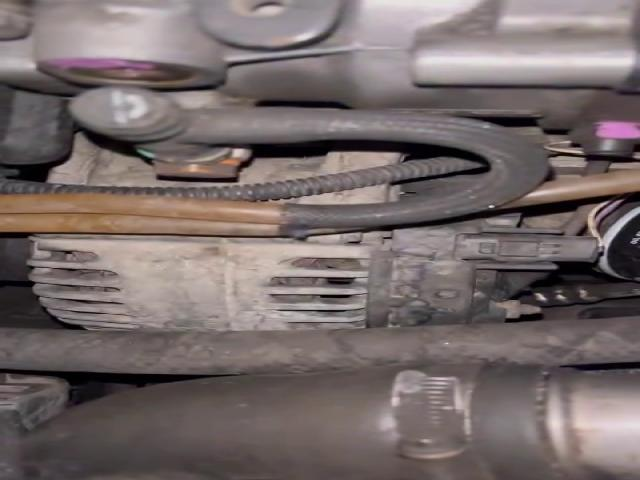alternator: (29, 234, 375, 330)
high_pressure_pump: (2, 0, 638, 157)
